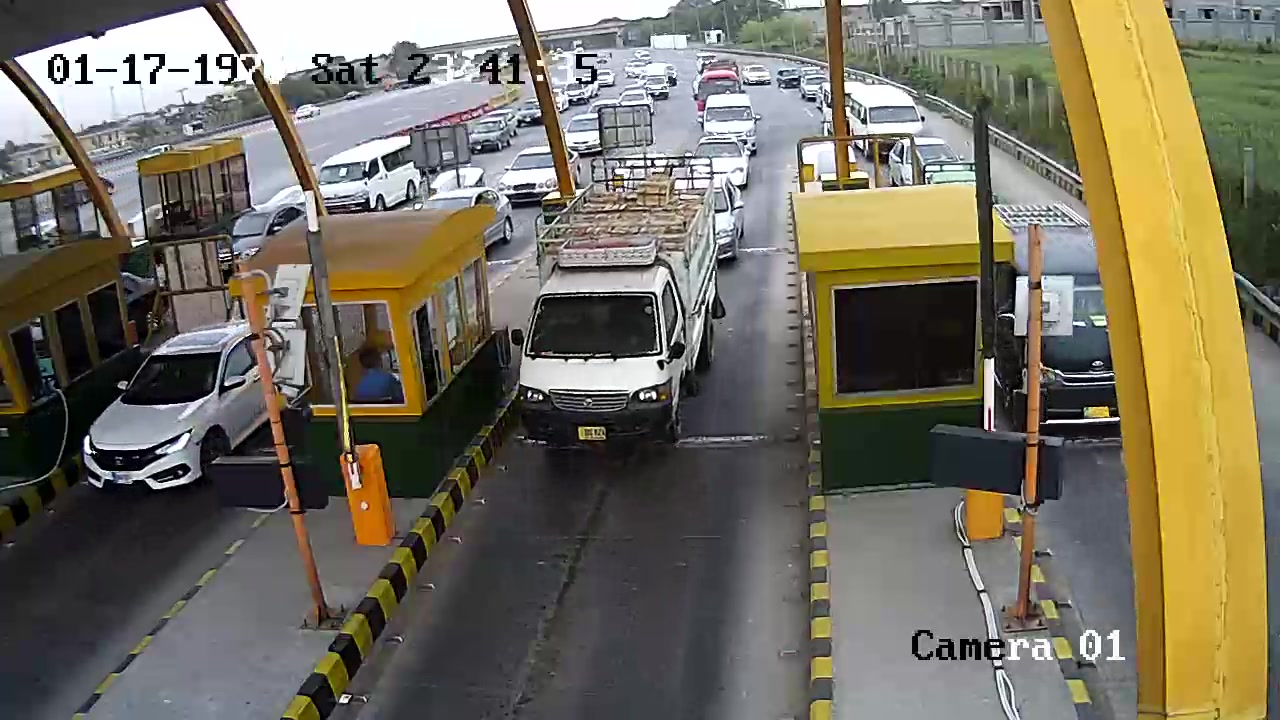F3: (513, 140, 729, 459)
